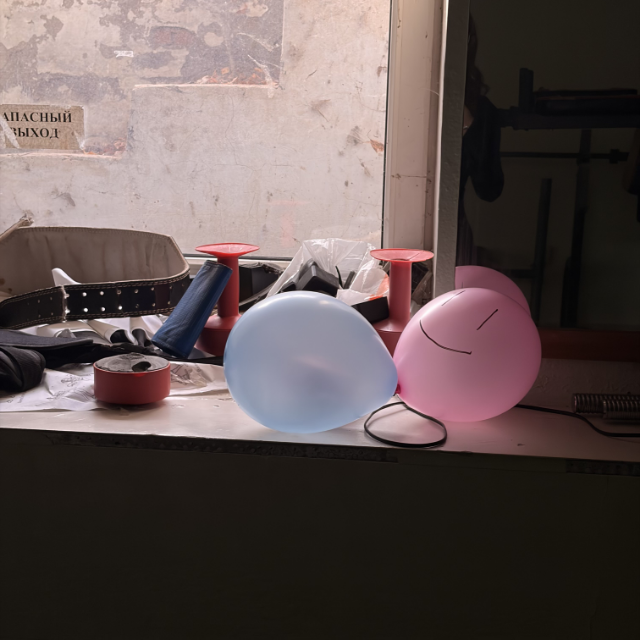balloon: (223, 290, 399, 433), (391, 286, 542, 423)
